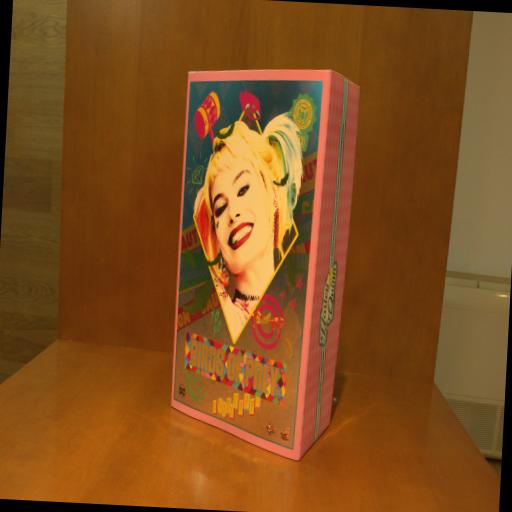Harley: (168, 59, 362, 462)
